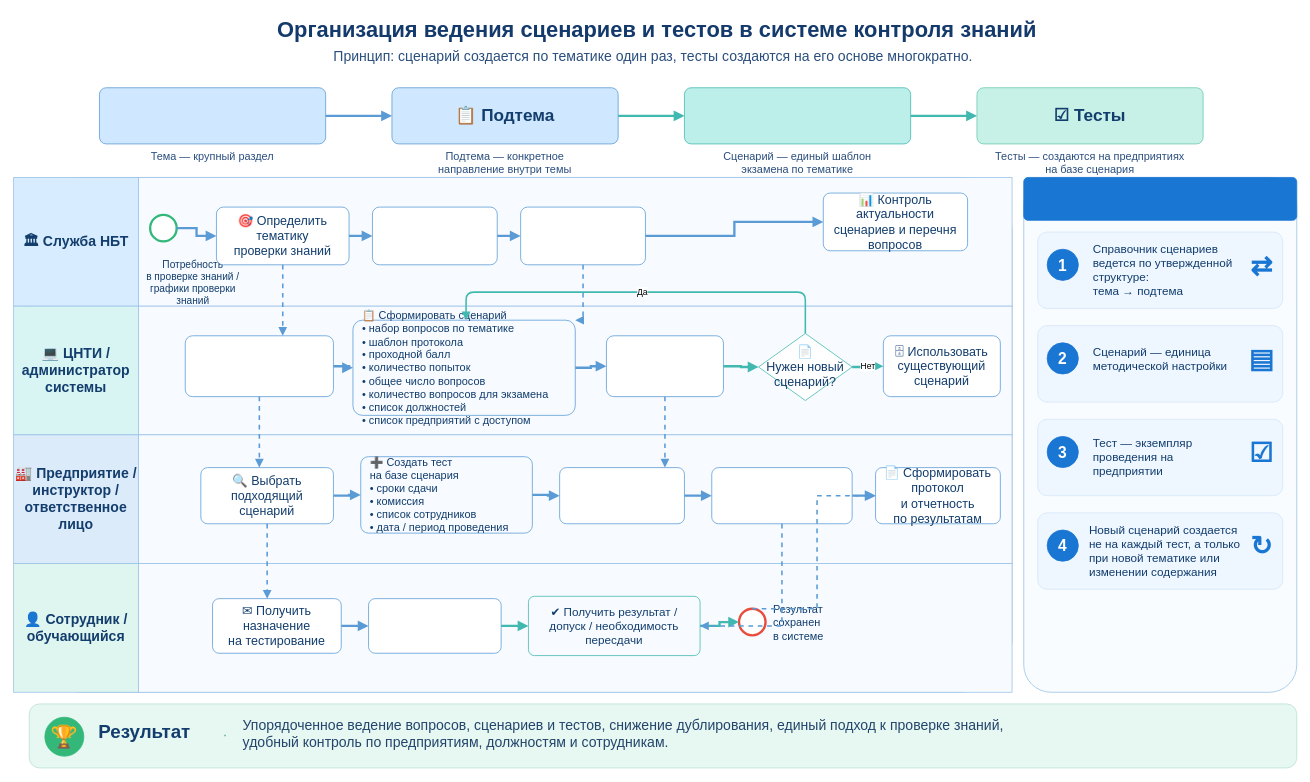
The diagram is 1310 pixels wide and 782 high, and some of its shapes have lost their labels. The shapes that lost their labels are listed below. From the top down, each one's centre as x and y in pixels, then its label:
At point (212, 115): "📘 Тема".
At point (797, 115): "📝 Сценарий".
At point (1160, 198): "⚙ Ключевые правила ведения".
At point (434, 235): "📄 Согласовать структуру тем и подтем".
At point (582, 235): "⚙ Согласовать параметры сценария".
At point (258, 366): "🗃 Структурировать перечень вопросов по темам и подтемам".
At point (664, 366): "⬆ Разместить и опубликовать сценарий в системе".
At point (621, 495): "👥 Назначить тест сотрудникам".
At point (781, 495): "📅 Контролировать сроки и прохождение".
At point (434, 625): "💻 Пройти тест".
